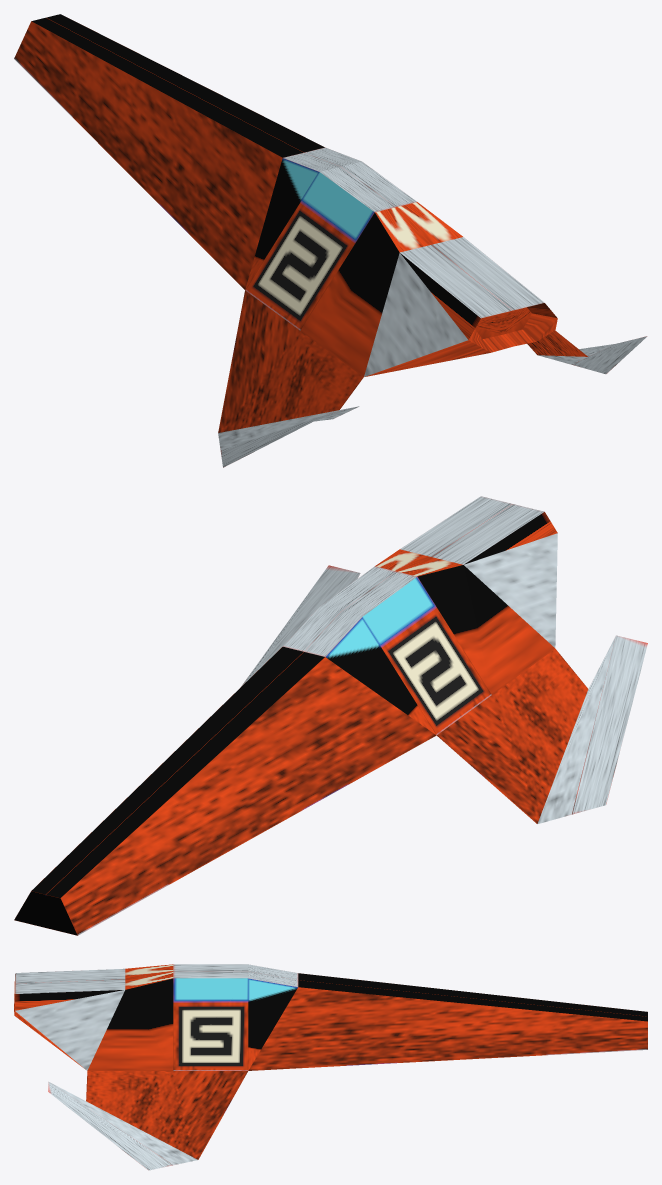
File: craft2.fbx
The picture shows the model from 3 angles, top to bottom: view 1: azimuth 30°, elevation 25°; view 2: azimuth 150°, elevation 25°; view 3: azimuth 270°, elevation 25°; orthographic projection. The views are drawn at different scales.
Parts seen in each view (by area): view 1: Cube; view 2: Cube; view 3: Cube.
Part boxes in pixels (x1,y1,x2,y2): Cube: (14,14,647,467); Cube: (14,496,647,935); Cube: (14,964,647,1170).
Bounding box in the file's own units: 1200 × 600 × 2538.
